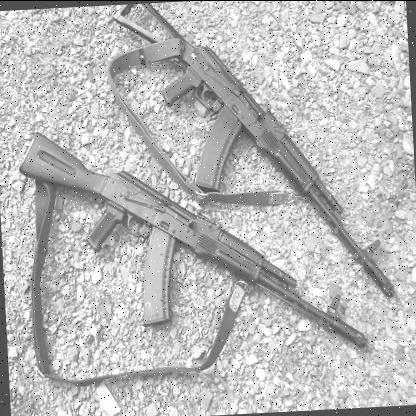rifle: (16, 113, 371, 376), (107, 0, 391, 315)
